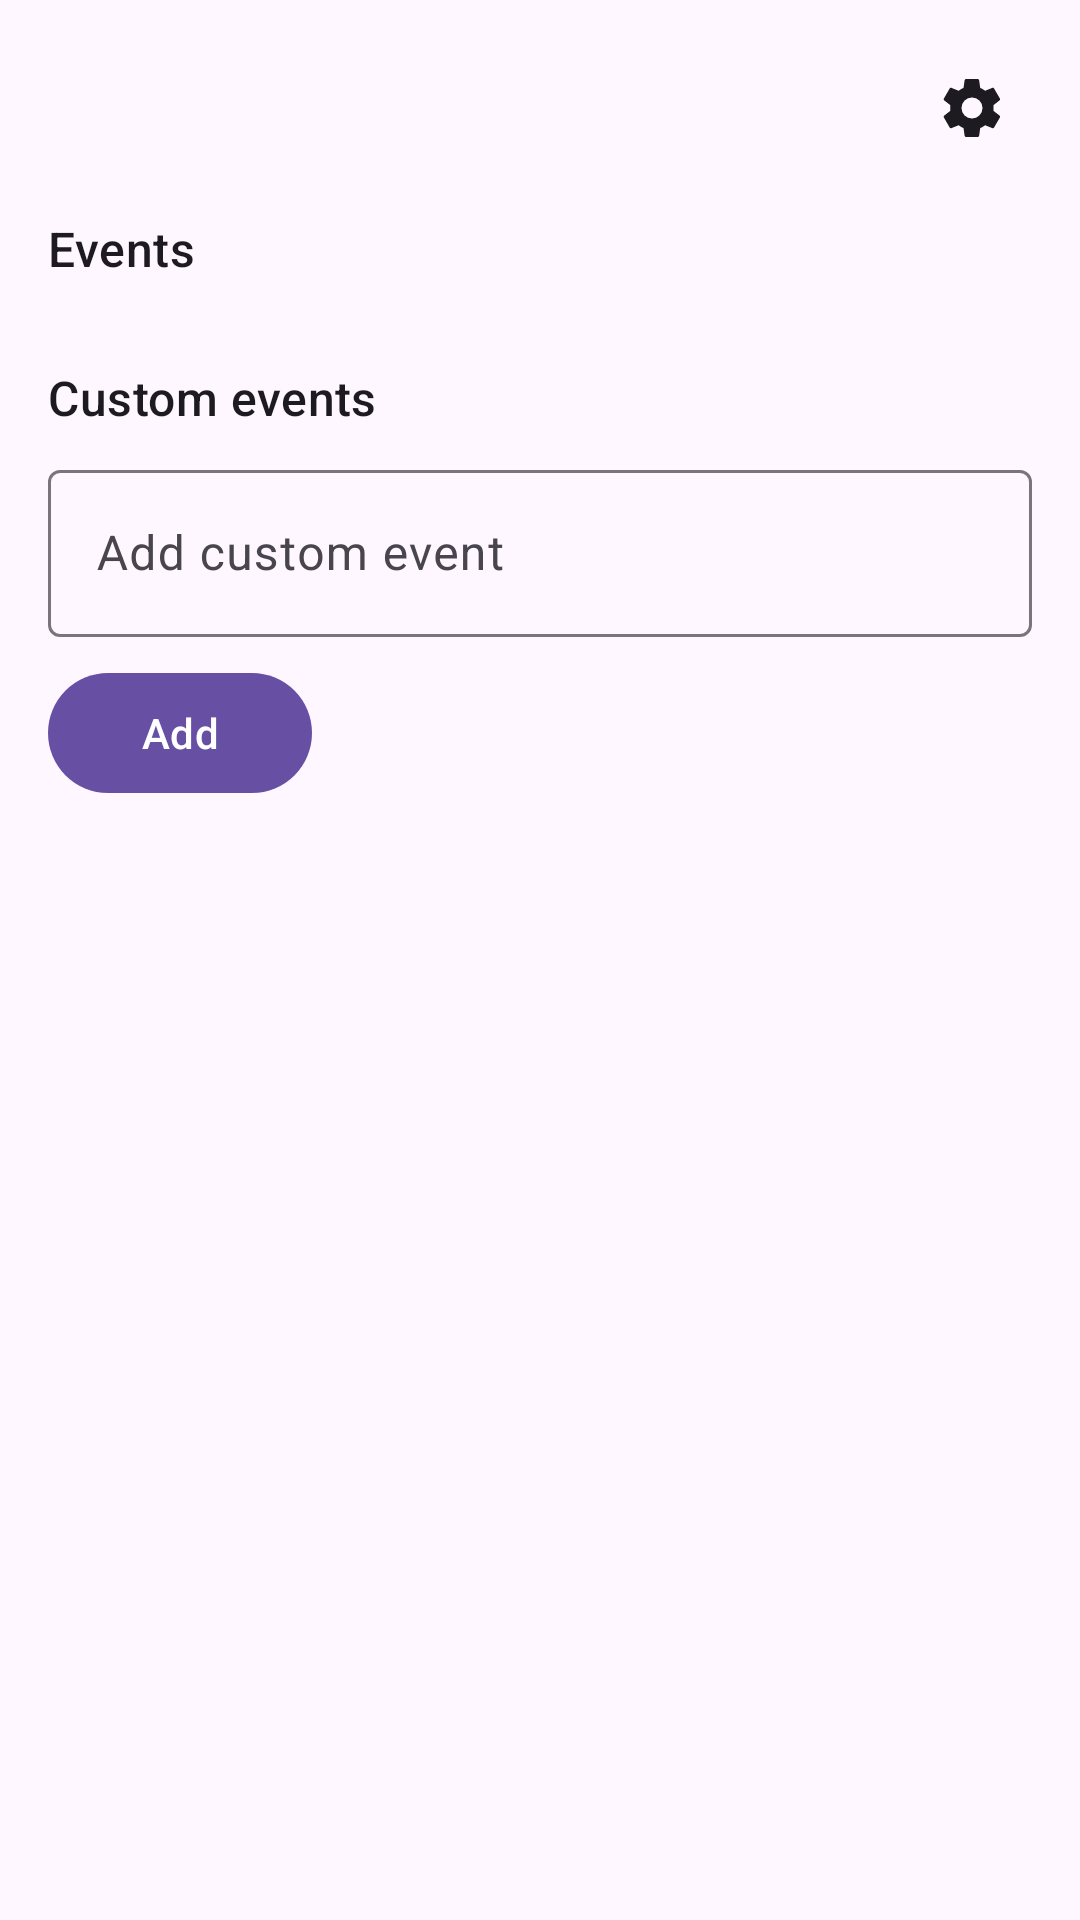

Where to tap for icons on this 1080 x 1920 app screen, as (x=x, y=y):
Open settings: (x=971, y=108)
